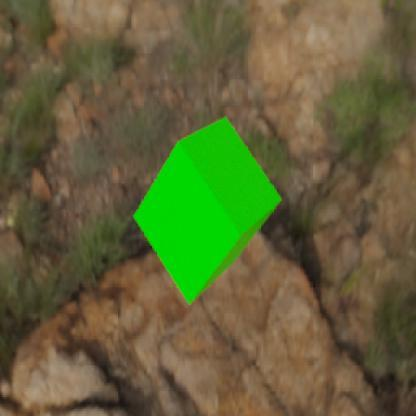green_cube: (132, 116, 280, 303)
